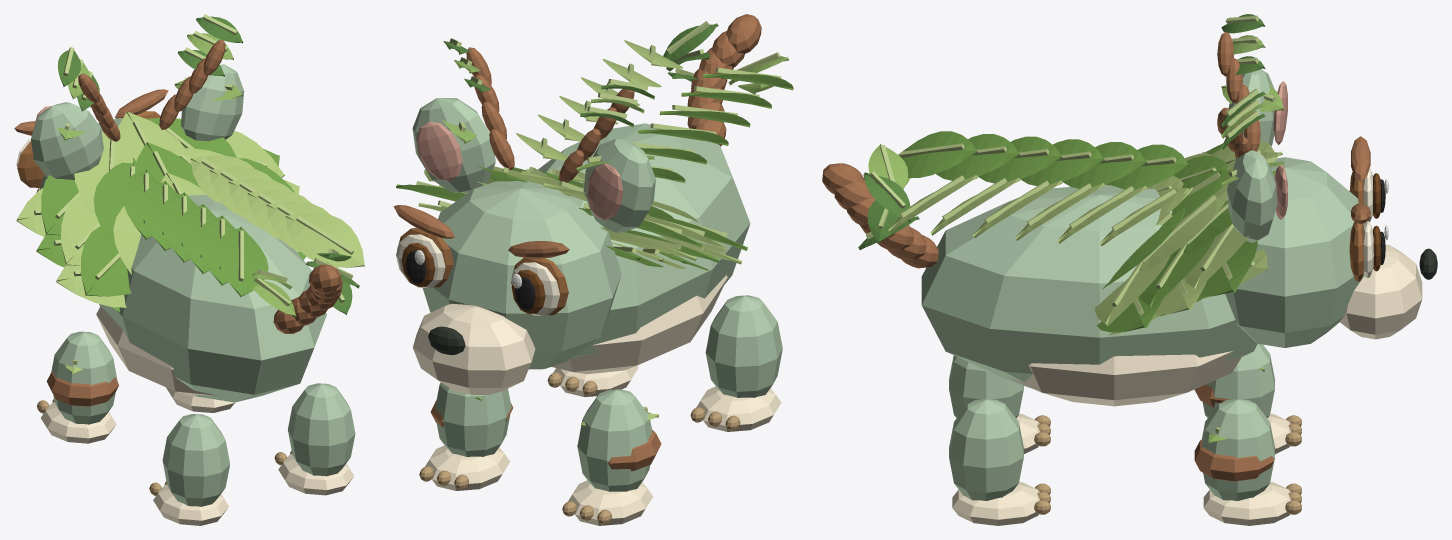
Rendered from TreeWolf_A_S6.obj.
3 views of the same model, side by side, from view 1: azimuth 30°, elevation 25°; view 2: azimuth 150°, elevation 25°; view 3: azimuth 270°, elevation 25° (orthographic). The views are drawn at different scales.
Parts seen in each view (by area): view 1: Body, RightBackLeg, LeftBackLeg, LeftEar, LeftFrontLeg, RightEar, BackLeaf_11, ManeLeaf_31, Belly, BackLeaf_10, ManeLeaf, ManeLeaf_21 (+36 smaller); view 2: Head, Body, Muzzle, LeftBackLeg, LeftFrontLeg, Belly, RightFrontLeg, RightEar, LeftEar, LeftFrontPaw, RightFrontPaw, LeftBackPaw (+34 smaller); view 3: Body, Head, Belly, RightBackLeg, Muzzle, RightFrontLeg, RightEar, LeftFrontLeg, LeftBackLeg, RightBackPaw, RightFrontPaw, BackLeaf_10 (+24 smaller).
Part boxes in pixels (left/top/right/bottom): Body: left=99, top=195, right=326, bottom=402; RightBackLeg: left=288, top=383, right=355, bottom=476; LeftBackLeg: left=162, top=414, right=229, bottom=506; LeftEar: left=31, top=102, right=103, bottom=179; LeftFrontLeg: left=51, top=331, right=117, bottom=424; RightEar: left=181, top=64, right=244, bottom=141; BackLeaf_11: left=285, top=213, right=364, bottom=267; ManeLeaf_31: left=80, top=226, right=131, bottom=296; Belly: left=96, top=306, right=218, bottom=397; BackLeaf_10: left=216, top=227, right=268, bottom=296; ManeLeaf: left=114, top=111, right=184, bottom=164; ManeLeaf_21: left=93, top=158, right=136, bottom=245; Head: left=422, top=181, right=621, bottom=369; Body: left=538, top=123, right=750, bottom=357; Muzzle: left=413, top=303, right=535, bottom=394; LeftBackLeg: left=705, top=295, right=782, bottom=397; LeftFrontLeg: left=577, top=389, right=652, bottom=491; Belly: left=551, top=275, right=727, bottom=374; RightFrontLeg: left=435, top=382, right=511, bottom=456; RightEar: left=412, top=98, right=495, bottom=192; LeftEar: left=583, top=139, right=655, bottom=232; LeftFrontPaw: left=568, top=480, right=653, bottom=525; RightFrontPaw: left=425, top=445, right=510, bottom=490; LeftBackPaw: left=696, top=386, right=781, bottom=431; Body: left=921, top=185, right=1257, bottom=388; Head: left=1225, top=157, right=1364, bottom=347; Belly: left=1007, top=351, right=1241, bottom=406; RightBackLeg: left=949, top=398, right=1023, bottom=500; Muzzle: left=1340, top=244, right=1422, bottom=339; RightFrontLeg: left=1201, top=398, right=1274, bottom=500; RightEar: left=1227, top=150, right=1277, bottom=242; LeftFrontLeg: left=1202, top=343, right=1274, bottom=418; LeftBackLeg: left=949, top=355, right=1023, bottom=418; RightBackPaw: left=952, top=482, right=1040, bottom=525; RightFrontPaw: left=1203, top=482, right=1291, bottom=525; BackLeaf_10: left=898, top=131, right=977, bottom=178.
Bounding box in the file's own units: 8.17 × 11.53 × 14.83.
